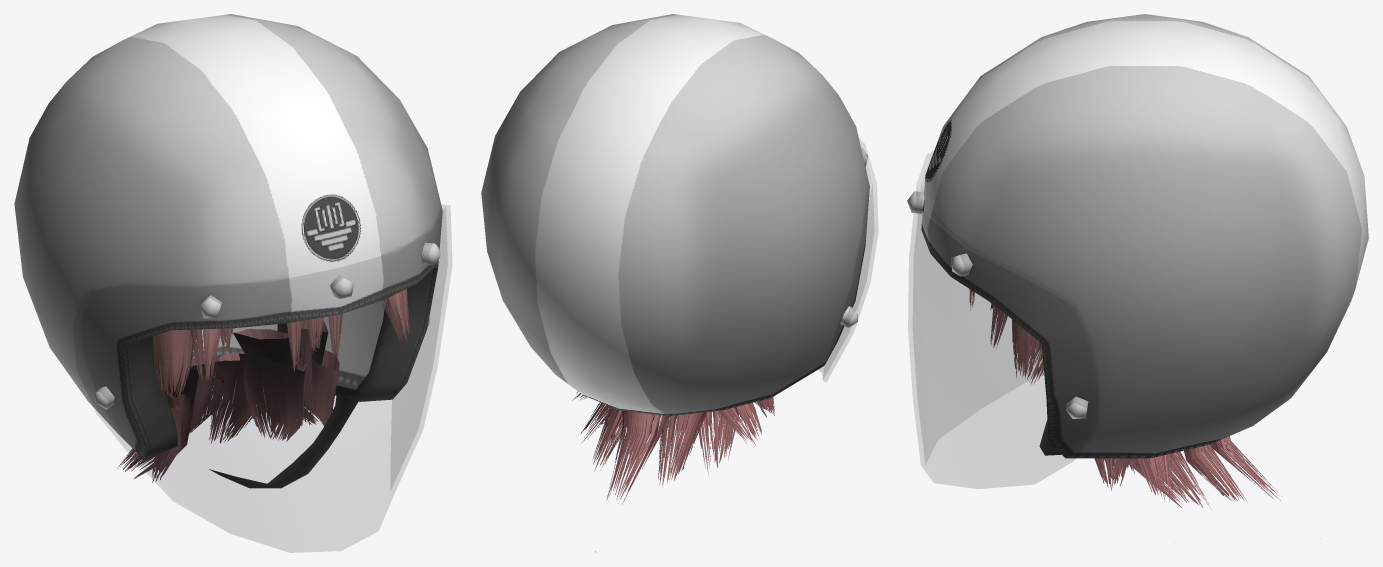
File: helmet_line.gltf
3 views of the same model, side by side, from view 1: azimuth 30°, elevation 25°; view 2: azimuth 150°, elevation 25°; view 3: azimuth 270°, elevation 25° (orthographic). The views are drawn at different scales.
Parts seen in each view (by area): view 1: helmet, helmet.glass, helmet.hair.girl, helmet.strap; view 2: helmet, helmet.hair.girl, helmet.glass; view 3: helmet, helmet.glass, helmet.hair.girl.
Part boxes in pixels (x1,y1,x2,y2): helmet: [14, 14, 442, 459]; helmet.glass: [73, 205, 451, 552]; helmet.hair.girl: [117, 289, 410, 482]; helmet.strap: [209, 396, 359, 488]; helmet: [481, 14, 869, 416]; helmet.hair.girl: [572, 391, 774, 552]; helmet.glass: [819, 139, 877, 381]; helmet: [921, 14, 1368, 458]; helmet.glass: [908, 151, 1099, 488]; helmet.hair.girl: [969, 289, 1281, 509].
Bounding box in the file's own units: 0.365 × 0.4828 × 0.4007.
Materials: 5 (4 with a texture image).
